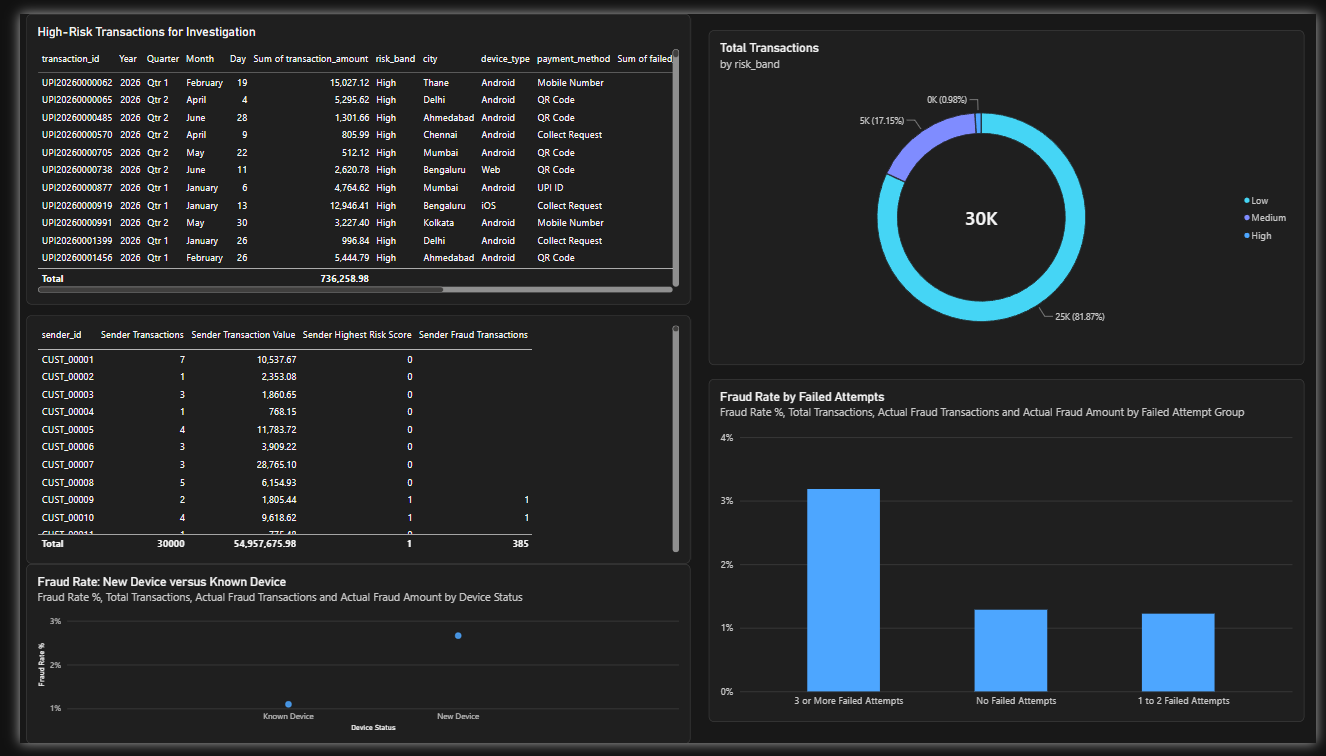

The page's visual inventory and layout, read from the dashboard file:
{"tool":"powerbi","page":{"name":"Risk investigation","canvas":[1920,1080],"ordinal":2},"visuals":[{"type":"tableEx","title":"High-Risk Transactions for Investigation","fields":{"Values":["UPI Transactions.transaction_id","UPI Transactions.transaction_datetime.Variation.Date Hierarchy.Year","UPI Transactions.transaction_datetime.Variation.Date Hierarchy.Quarter","UPI Transactions.transaction_datetime.Variation.Date Hierarchy.Month","UPI Transactions.transaction_datetime.Variation.Date Hierarchy.Day","Sum(UPI Transactions.transaction_amount)","UPI Transactions.risk_band","UPI Transactions.city","UPI Transactions.device_type","UPI Transactions.payment_method","Sum(UPI Transactions.failed_attempts_24h)","Sum(UPI Transactions.is_new_device)"]},"box":[10,0,984,430],"z":0},{"type":"tableEx","fields":{"Values":["UPI Transactions.sender_id","UPI Transactions.Sender Transactions","UPI Transactions.Sender Transaction Value","UPI Transactions.Sender Highest Risk Score","UPI Transactions.Sender Fraud Transactions"]},"box":[10,446,984,368],"z":1},{"type":"scatterChart","title":"Fraud Rate: New Device versus Known Device","fields":{"X":["UPI Transactions.Device Status"],"Y":["UPI Transactions.Fraud Rate %"]},"box":[10,814,984,266],"z":2},{"type":"columnChart","title":"Fraud Rate by Failed Attempts","fields":{"Category":["UPI Transactions.Failed Attempt Group"],"Y":["UPI Transactions.Fraud Rate %"]},"box":[1020,540,882,508],"z":3},{"type":"donutChart","fields":{"Category":["UPI Transactions.risk_band"],"Y":["UPI Transactions.Total Transactions"]},"box":[1020,24,882,496],"z":4}]}

Visuals, with their boxes in screenshot pixels (x1, y1, x2, y2), scaled from the page's 1920x1080 canvas onto the 1326x756 screenshot:
"High-Risk Transactions for Investigation" tableEx: <bbox>7, 0, 686, 301</bbox>
tableEx - UPI Transactions.sender_id x UPI Transactions.Sender Transactions: <bbox>7, 312, 686, 570</bbox>
"Fraud Rate: New Device versus Known Device" scatterChart: <bbox>7, 570, 686, 755</bbox>
"Fraud Rate by Failed Attempts" columnChart: <bbox>704, 378, 1314, 734</bbox>
donutChart - UPI Transactions.risk_band x UPI Transactions.Total Transactions: <bbox>704, 17, 1314, 364</bbox>
